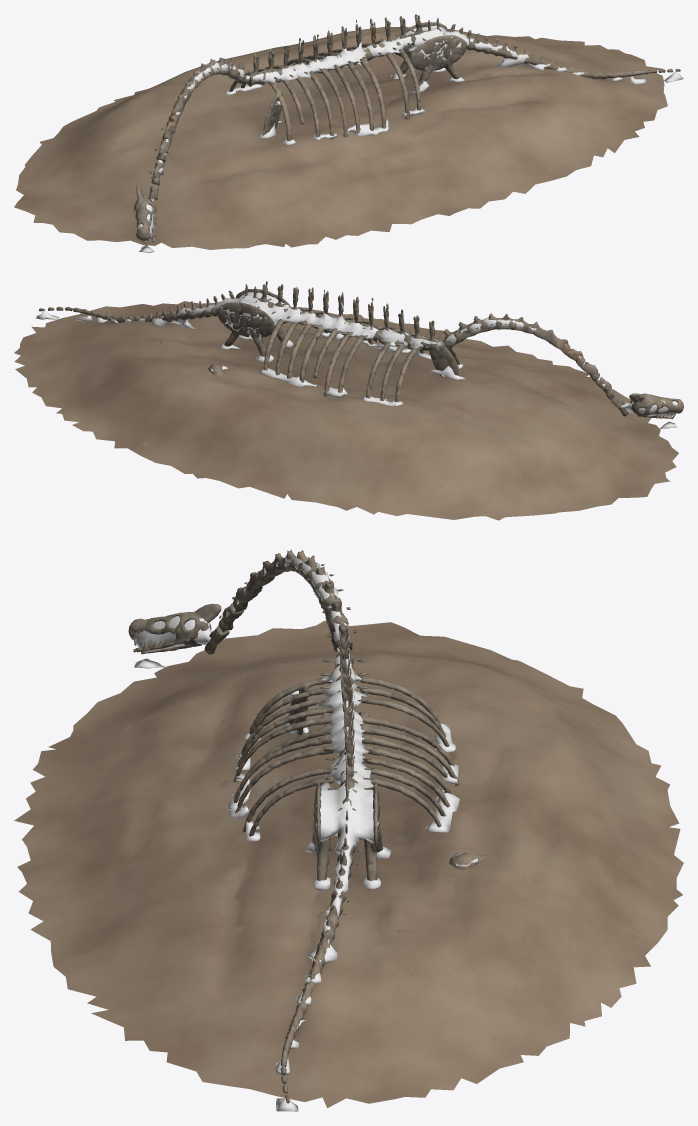
File: LM_FossilSkeleton.fbx
3 renders of one model, top to bottom at view 1: azimuth 30°, elevation 25°; view 2: azimuth 150°, elevation 25°; view 3: azimuth 270°, elevation 25°, orthographic. The views are drawn at different scales.
Parts seen in each view (by area): view 1: LM_FossilSkeleton_LOD0, LM_FossilSkeleton_COL; view 2: LM_FossilSkeleton_LOD0, LM_FossilSkeleton_COL; view 3: LM_FossilSkeleton_LOD0, LM_FossilSkeleton_COL.
Boxes of the visible parts, x1,y1,x2,y2 form: LM_FossilSkeleton_LOD0: (14, 14, 680, 249); LM_FossilSkeleton_COL: (134, 20, 683, 252); LM_FossilSkeleton_LOD0: (14, 281, 683, 520); LM_FossilSkeleton_COL: (36, 286, 677, 429); LM_FossilSkeleton_LOD0: (14, 549, 683, 1107); LM_FossilSkeleton_COL: (134, 556, 477, 1111).
Size of what is drawn, in the model's own units: 40.68 by 7.47 by 23.45.
